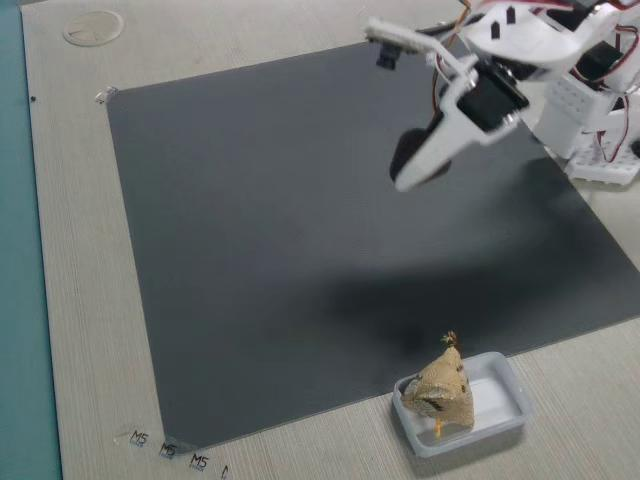gripper: (416, 56, 511, 190)
